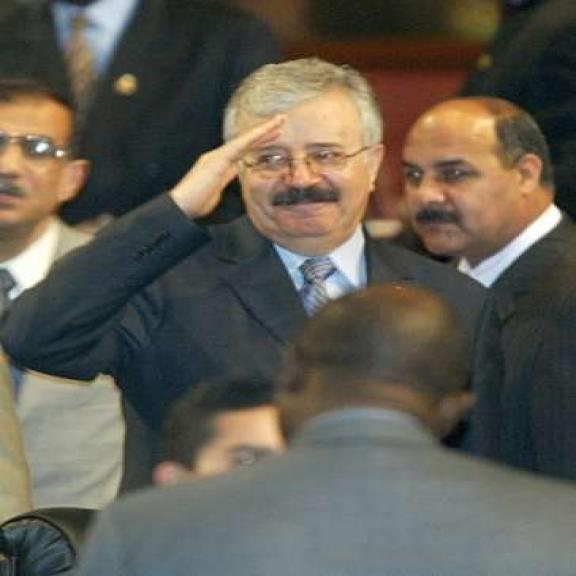face: (233, 100, 386, 243), (406, 116, 538, 256), (0, 100, 97, 223)
